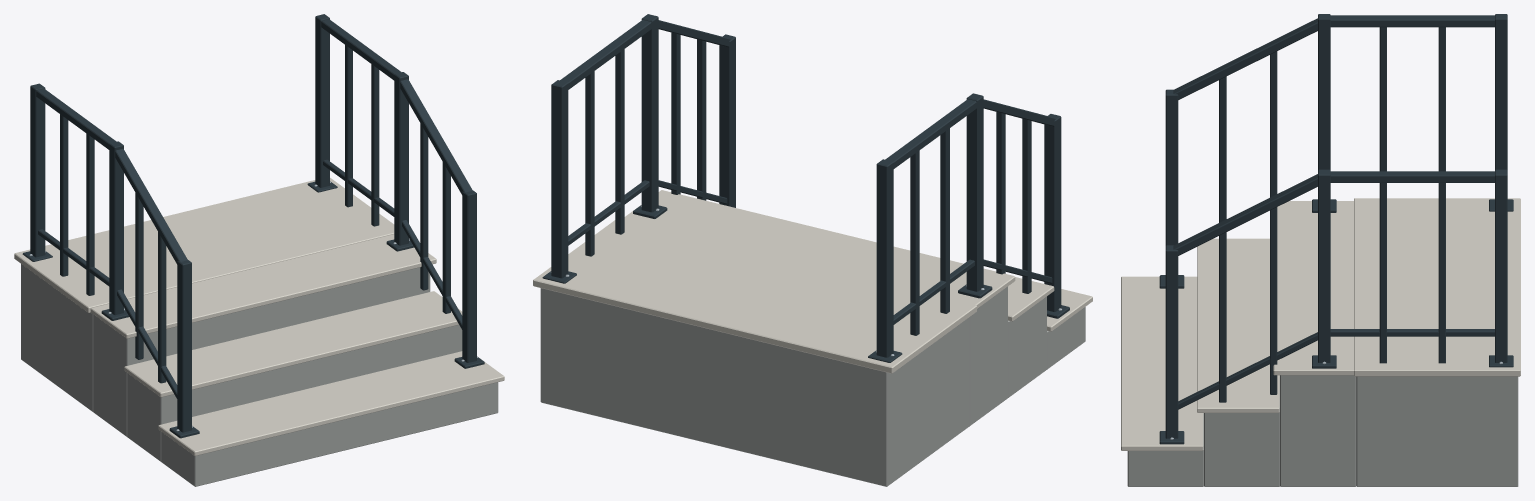
The model's file is b12_three_step_front_stoop.glb.
3 views of the same model, side by side, from view 1: azimuth 30°, elevation 25°; view 2: azimuth 150°, elevation 25°; view 3: azimuth 270°, elevation 25° (orthographic). The views are drawn at different scales.
Visible parts, largest first — view 1: b12_three_step_front_stoop; view 2: b12_three_step_front_stoop; view 3: b12_three_step_front_stoop.
Part boxes in pixels (<box>): b12_three_step_front_stoop: <box>14,14,504,486</box>; b12_three_step_front_stoop: <box>533,14,1092,486</box>; b12_three_step_front_stoop: <box>1121,14,1520,486</box>.
Size of the model in its own units: 1.66 by 1.39 by 1.63.
